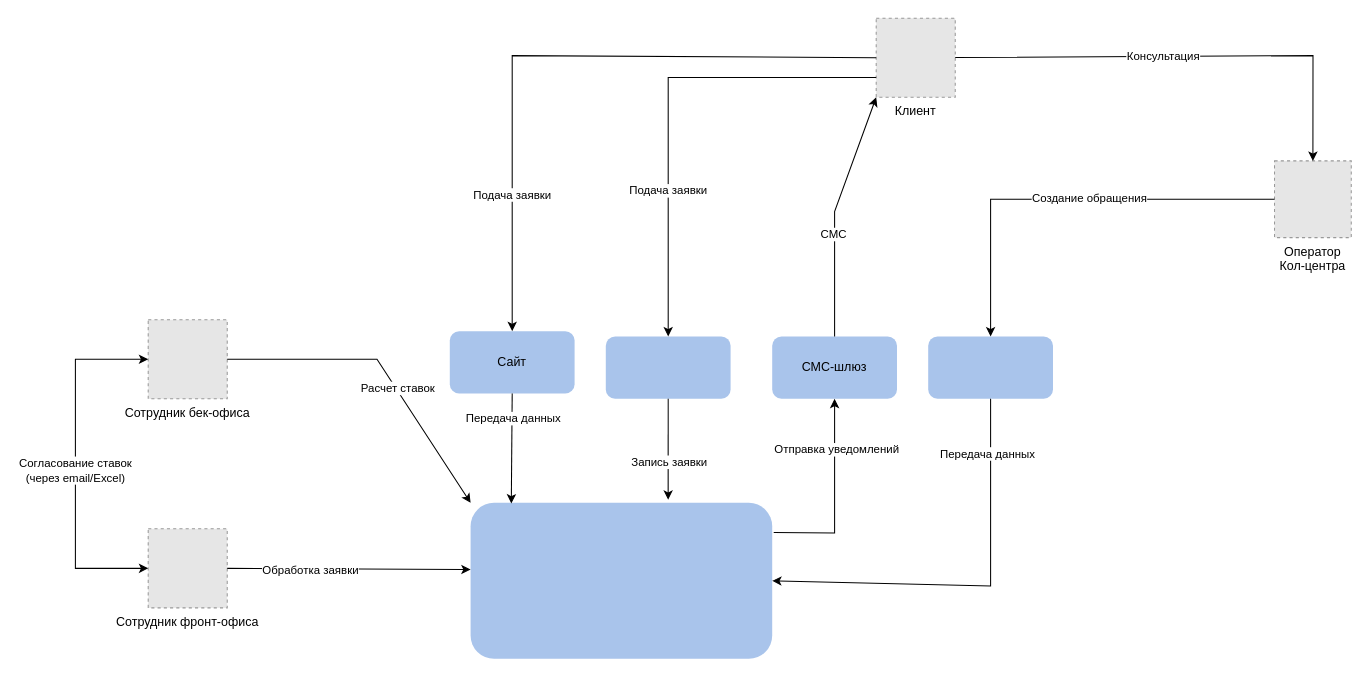
The diagram is 1370 pixels wide and 677 high, and some of its shapes have lost their labels. Grey dashed boxes stand in for pictures. Each missing label, with the box of its shape:
АБС: (470, 502, 772, 658)
Интернет-банк: (605, 336, 730, 398)
Система кол-центра: (928, 336, 1052, 398)
